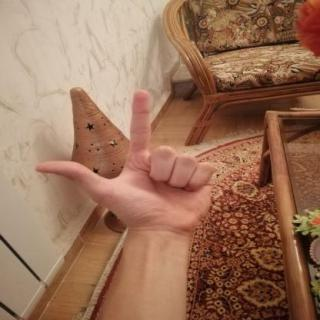LAAM: (20, 82, 234, 244)
